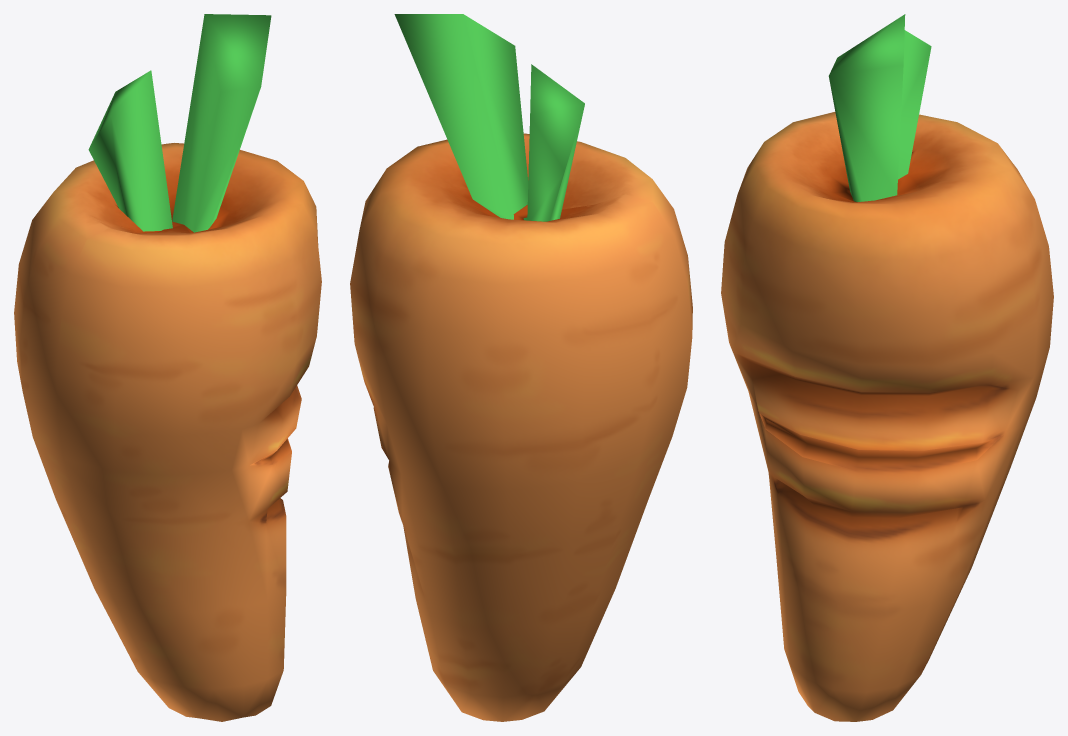
File: carrot.fbx
3 renders of one model, left to right at view 1: azimuth 30°, elevation 25°; view 2: azimuth 150°, elevation 25°; view 3: azimuth 270°, elevation 25°, orthographic. The views are drawn at different scales.
Parts seen in each view (by area): view 1: carrot; view 2: carrot; view 3: carrot.
Boxes of the visible parts, bbox=[...] form: carrot: bbox=[14, 14, 321, 721]; carrot: bbox=[350, 14, 692, 721]; carrot: bbox=[721, 14, 1053, 721].
Size of the model in its own units: 91.13 by 216 by 92.49.
